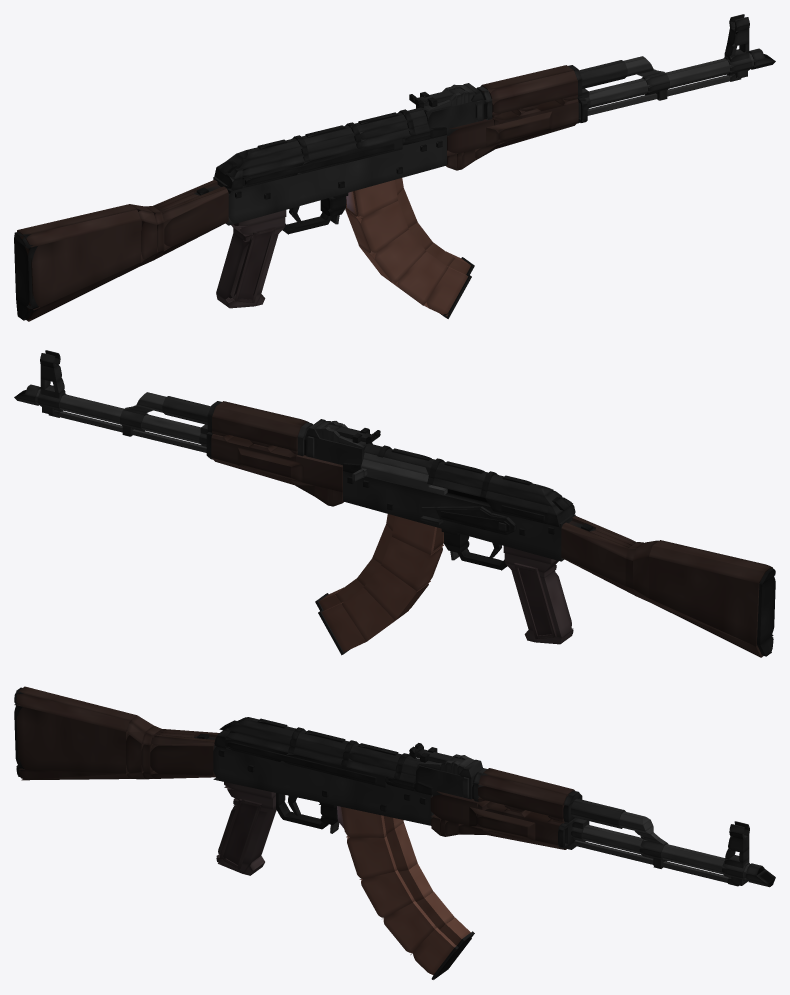
File: akm.obj
The picture shows the model from 3 angles, top to bottom: view 1: azimuth 30°, elevation 25°; view 2: azimuth 150°, elevation 25°; view 3: azimuth 330°, elevation 25°; orthographic projection.
Parts seen in each view (by area): view 1: gunModel0, gunModel11, gunModel12, ammoModel1, gunModel1, ammoModel2, gunModel29, gunModel68, ammoModel3, gunModel159, gunModel27, gunModel26 (+20 smaller); view 2: gunModel11, gunModel0, gunModel12, ammoModel1, gunModel1, ammoModel2, gunModel29, ammoModel3, gunModel68, gunModel159, gunModel28, gunModel26 (+19 smaller); view 3: gunModel0, gunModel11, gunModel12, gunModel1, gunModel29, ammoModel1, ammoModel2, ammoModel3, gunModel68, gunModel27, gunModel26, gunModel103 (+22 smaller).
Part boxes in pixels (x1=…): gunModel0: x1=213, y1=135, x2=446, y2=225; gunModel11: x1=24, y1=221, x2=140, y2=310; gunModel12: x1=17, y1=204, x2=140, y2=247; ammoModel1: x1=345, y1=201, x2=408, y2=255; gunModel1: x1=157, y1=192, x2=228, y2=249; ammoModel2: x1=358, y1=229, x2=426, y2=284; gunModel29: x1=480, y1=65, x2=577, y2=101; gunModel68: x1=236, y1=107, x2=426, y2=160; ammoModel3: x1=391, y1=251, x2=448, y2=305; gunModel159: x1=216, y1=233, x2=278, y2=301; gunModel27: x1=486, y1=111, x2=552, y2=146; gunModel26: x1=488, y1=81, x2=577, y2=115; gunModel11: x1=649, y1=557, x2=759, y2=646; gunModel0: x1=343, y1=471, x2=573, y2=561; gunModel12: x1=649, y1=540, x2=773, y2=583; ammoModel1: x1=381, y1=537, x2=442, y2=591; gunModel1: x1=561, y1=528, x2=625, y2=585; ammoModel2: x1=363, y1=565, x2=428, y2=620; gunModel29: x1=212, y1=401, x2=308, y2=437; ammoModel3: x1=341, y1=587, x2=398, y2=641; gunModel68: x1=363, y1=443, x2=553, y2=496; gunModel159: x1=511, y1=570, x2=573, y2=637; gunModel28: x1=237, y1=447, x2=303, y2=482; gunModel26: x1=212, y1=417, x2=297, y2=451; gunModel0: x1=213, y1=746, x2=433, y2=825; gunModel11: x1=16, y1=707, x2=128, y2=773; gunModel12: x1=16, y1=686, x2=136, y2=731; gunModel1: x1=150, y1=745, x2=214, y2=775; gunModel29: x1=478, y1=768, x2=574, y2=805; ammoModel1: x1=347, y1=836, x2=397, y2=879; ammoModel2: x1=361, y1=870, x2=414, y2=918; ammoModel3: x1=383, y1=901, x2=436, y2=954; gunModel68: x1=236, y1=717, x2=419, y2=767; gunModel27: x1=469, y1=807, x2=535, y2=840; gunModel26: x1=478, y1=786, x2=564, y2=818; gunModel103: x1=582, y1=824, x2=749, y2=872.
Size of the model in its own units: 28.47 by 8.07 by 1.9.
